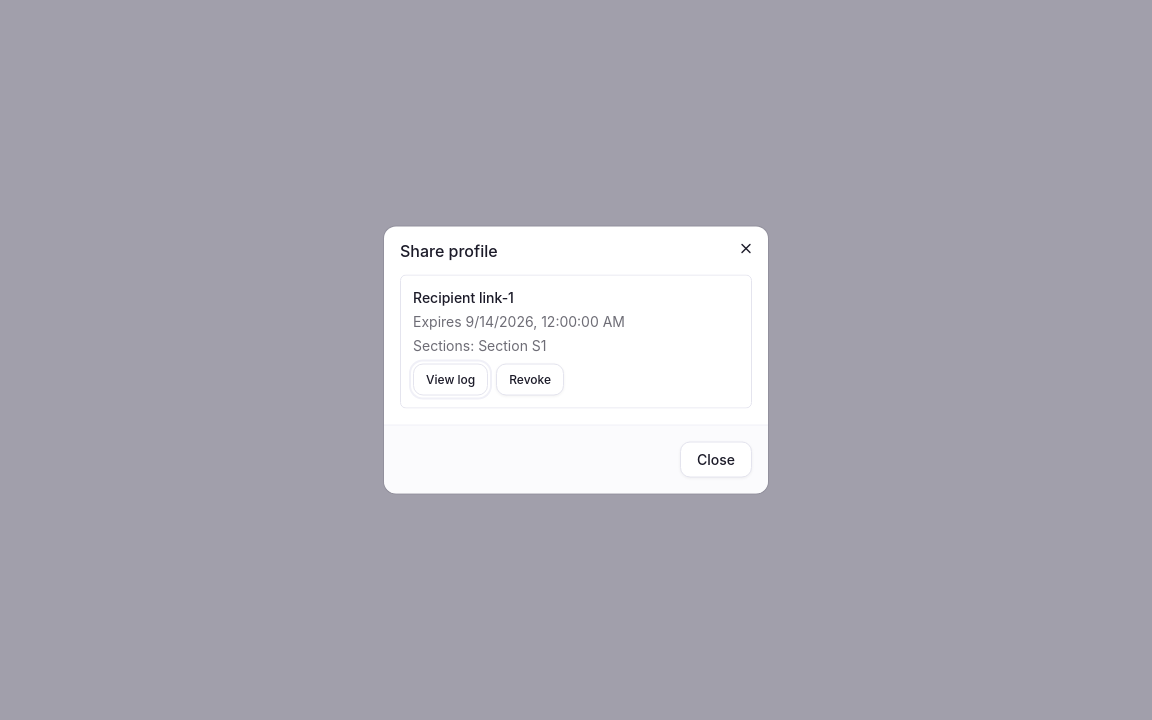
Test: SharedLinkManagerDialog revoke confirm › requires an explicit confirm before revoking
The width and height of the screenshot is (1152, 720).
Expected: the list item with test id "shared-link-row-link-1" is shown, [400,274,752,408]
Step 1. Click the button with test id "shared-link-revoke-link-1" → (530, 380), box [496,364,564,396]
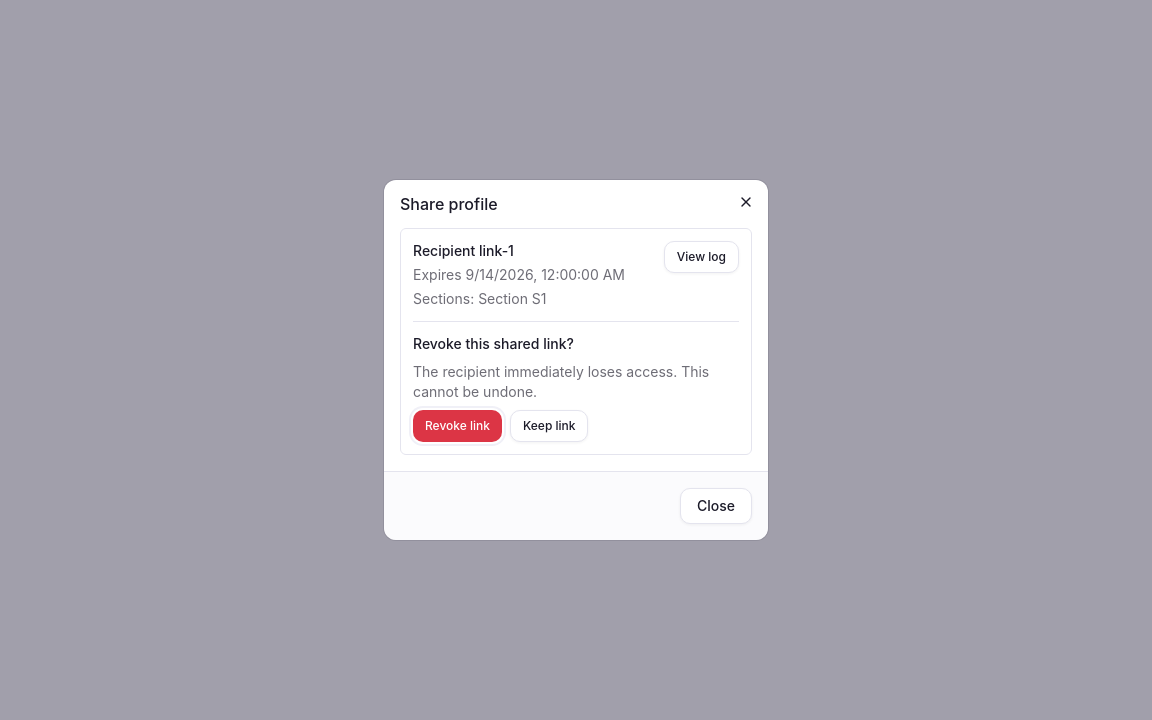
Expected: the element with test id "shared-link-revoke-confirm-link-1" is shown, [413,321,739,442]
